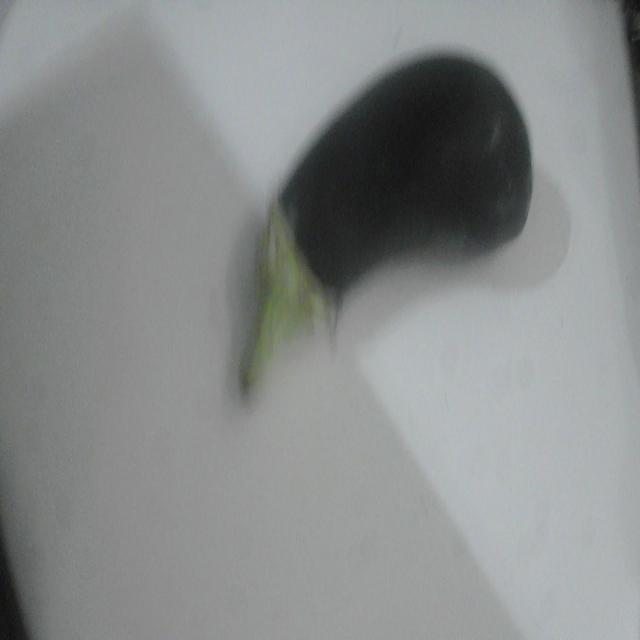Eggplant: (240, 54, 532, 397)
